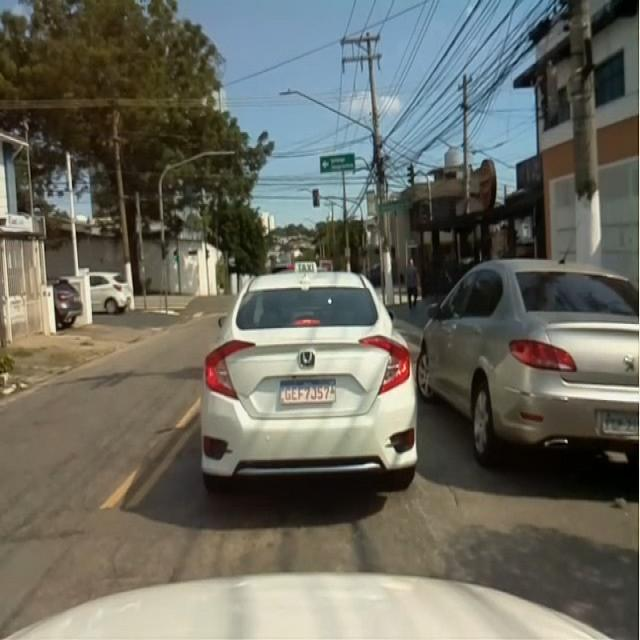car: (201, 272, 416, 489), (416, 260, 639, 463), (91, 272, 130, 313), (52, 279, 82, 328)
traffic-lights: (312, 189, 320, 207)
